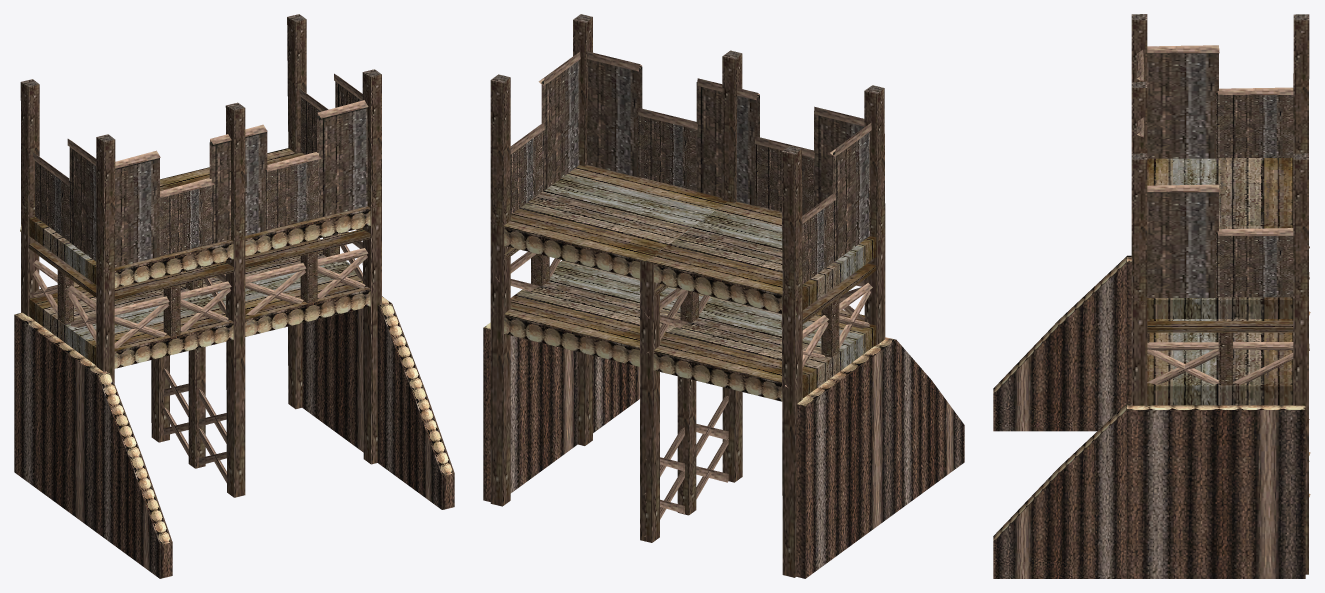
File: celt_gate.dae
3 renders of one model, left to right at view 1: azimuth 30°, elevation 25°; view 2: azimuth 150°, elevation 25°; view 3: azimuth 270°, elevation 25°, orthographic. The views are drawn at different scales.
Parts seen in each view (by area): view 1: Plane22-Pivot; view 2: Plane22-Pivot; view 3: Plane22-Pivot.
Part boxes in pixels (x1,y1,x2,y2): Plane22-Pivot: [14, 14, 454, 578]; Plane22-Pivot: [483, 14, 964, 578]; Plane22-Pivot: [993, 14, 1310, 578].
Size of the model in its own units: 12.81 by 11.15 by 16.14.
